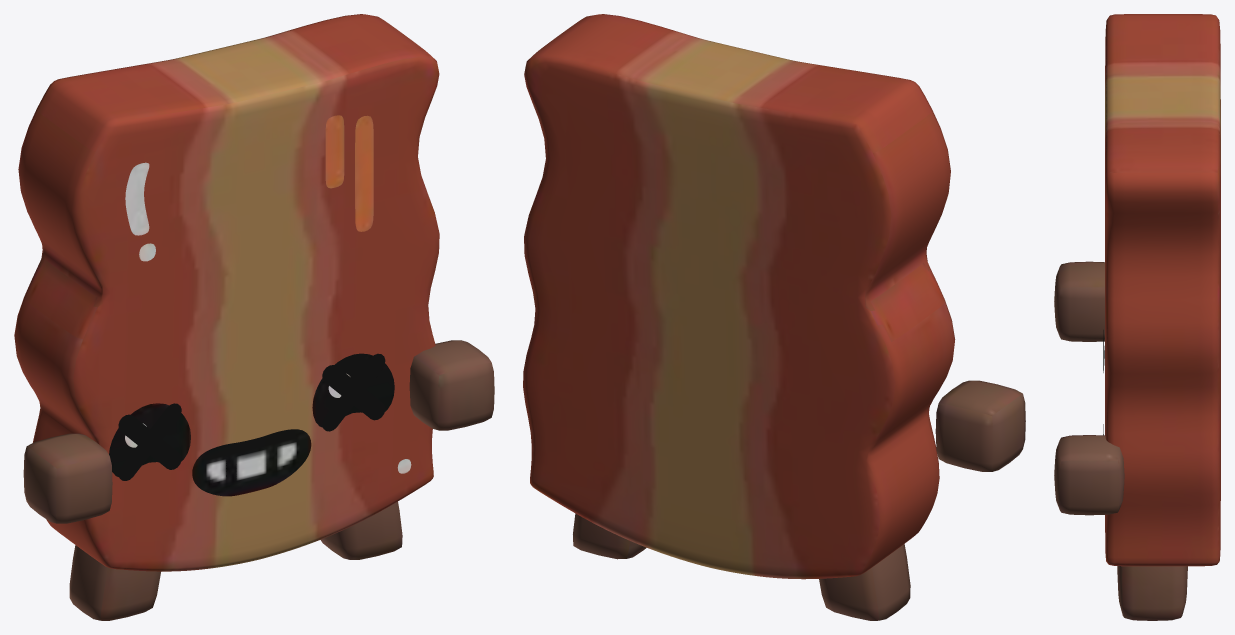
File: bacon.glb
3 renders of one model, left to right at view 1: azimuth 30°, elevation 25°; view 2: azimuth 150°, elevation 25°; view 3: azimuth 270°, elevation 25°, orthographic. The views are drawn at different scales.
Visible parts, largest first — view 1: body, hand_L, hand_R, face_mouth, face_dead_eyes, face_eyes; view 2: body, hand_L; view 3: body, hand_R, hand_L.
Part boxes in pixels (x1,y1,x2,y2): body: (14,14,439,620); hand_L: (23,433,112,523); hand_R: (409,340,494,430); face_mouth: (192,429,311,496); face_dead_eyes: (118,353,385,480); face_eyes: (109,353,394,476); body: (523,14,955,620); hand_L: (935,380,1025,471); body: (1105,14,1220,620); hand_R: (1054,435,1124,515); hand_L: (1054,261,1104,341).
Size of the model in its own units: 0.9146 by 1 by 0.3172.
2 materials, 1 textured.
